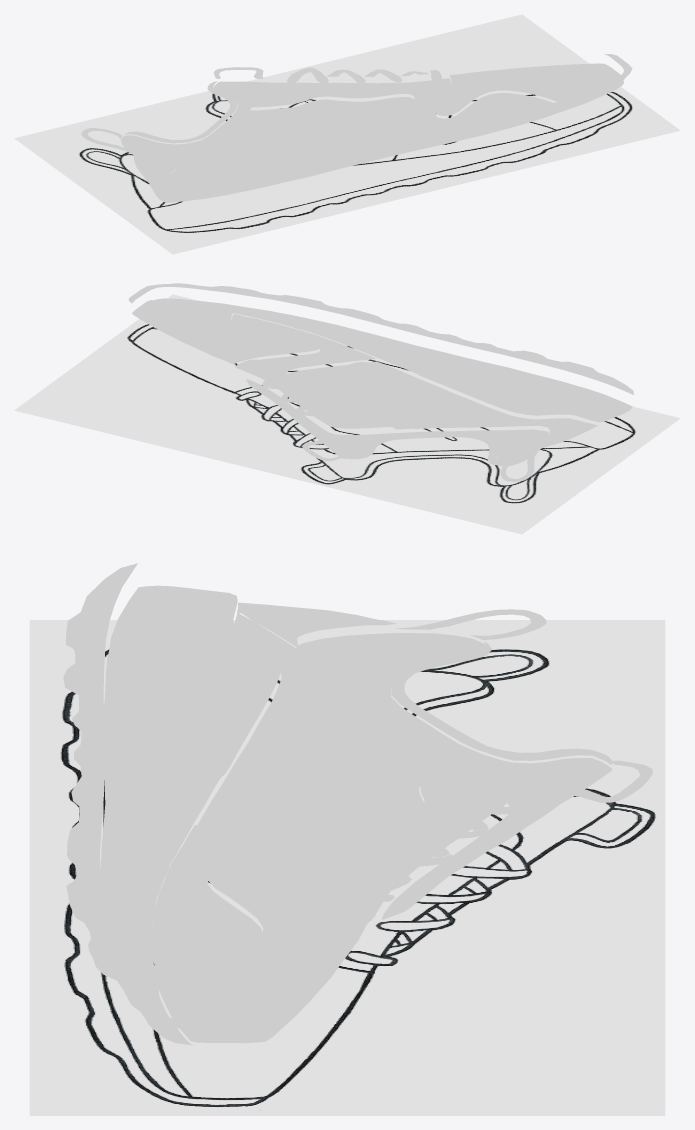
File: NikeKaishi2.FBX
3 renders of one model, top to bottom at view 1: azimuth 30°, elevation 25°; view 2: azimuth 150°, elevation 25°; view 3: azimuth 270°, elevation 25°, orthographic. The views are drawn at different scales.
Parts seen in each view (by area): view 1: Plane001, Line002, Line005, Line004, Line003, Line001, Line009, Line006, Line012, Line010, Line007; view 2: Plane001, Line002, Line005, Line004, Line003, Line009, Line001, Line006, Line012, Line010, Line007; view 3: Plane001, Line002, Line005, Line004, Line003, Line001, Line009, Line006, Line012, Line010, Line007, Line008 (+1 smaller).
Boxes of the visible parts, x1,y1,x2,y2 form: Plane001: [14, 14, 680, 254]; Line002: [150, 80, 624, 202]; Line005: [165, 97, 414, 179]; Line004: [246, 78, 553, 133]; Line003: [437, 63, 620, 115]; Line001: [166, 53, 632, 193]; Line009: [121, 81, 287, 168]; Line006: [240, 102, 384, 129]; Line012: [287, 67, 441, 83]; Line010: [123, 81, 237, 143]; Line007: [132, 151, 183, 183]; Plane001: [14, 294, 680, 534]; Line002: [154, 298, 632, 422]; Line005: [287, 361, 586, 429]; Line004: [230, 314, 395, 428]; Line003: [132, 300, 320, 364]; Line009: [246, 379, 549, 466]; Line001: [128, 283, 633, 394]; Line006: [341, 362, 455, 408]; Line012: [237, 359, 337, 416]; Line010: [345, 434, 502, 465]; Line007: [536, 422, 597, 449]; Plane001: [29, 620, 665, 1115]; Line002: [100, 585, 280, 1045]; Line005: [197, 613, 449, 877]; Line004: [152, 743, 519, 969]; Line003: [154, 869, 372, 1043]; Line001: [63, 563, 266, 1029]; Line009: [296, 633, 611, 919]; Line006: [242, 700, 348, 822]; Line012: [344, 779, 529, 901]; Line010: [390, 642, 612, 764]; Line007: [237, 602, 396, 649]; Line008: [396, 609, 546, 639].
Bounding box in the file's own units: 253 × 18.13 × 137.
